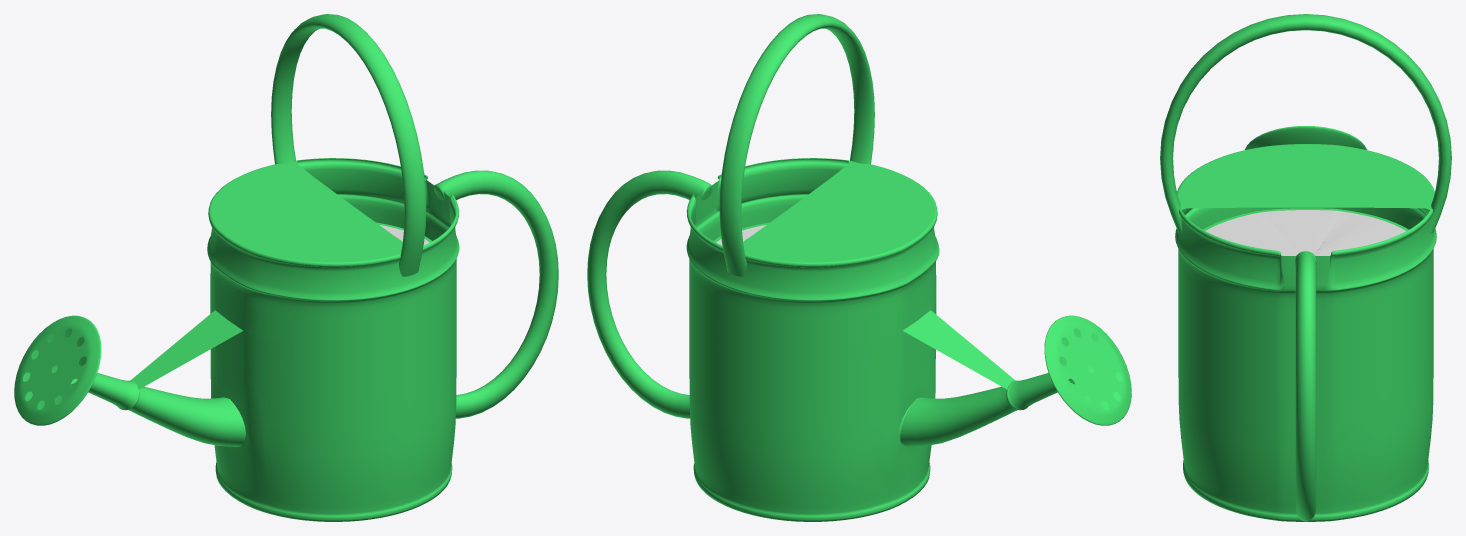
File: can.glb
3 views of the same model, side by side, from view 1: azimuth 30°, elevation 25°; view 2: azimuth 150°, elevation 25°; view 3: azimuth 270°, elevation 25° (orthographic). The views are drawn at different scales.
Parts seen in each view (by area): view 1: part 2; view 2: part 2; view 3: part 2.
Part boxes in pixels (box(x1,y1,x2,y2)): part 2: box(14, 14, 558, 521); part 2: box(587, 14, 1131, 521); part 2: box(1160, 14, 1451, 521).
Size of the model in its own units: 6.39 by 5.12 by 2.93.
